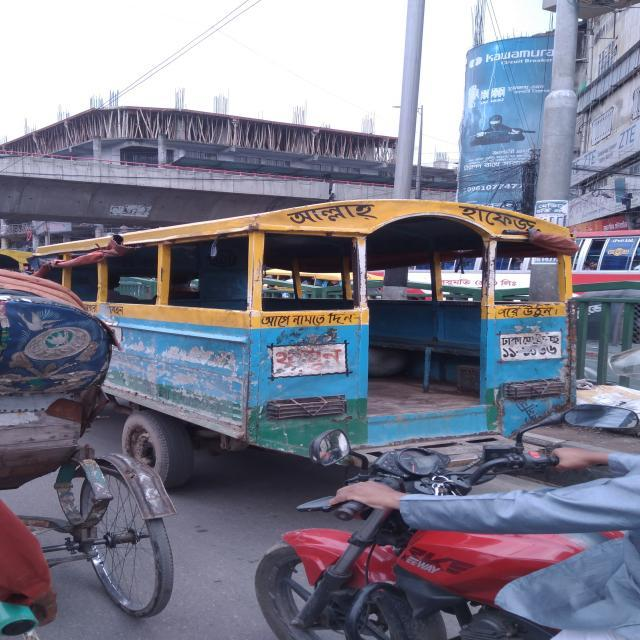CNG: (532, 268, 640, 446)
Leguna: (20, 194, 605, 507)
Motorbike: (234, 398, 640, 640)
Rickshaw: (1, 255, 253, 640)
